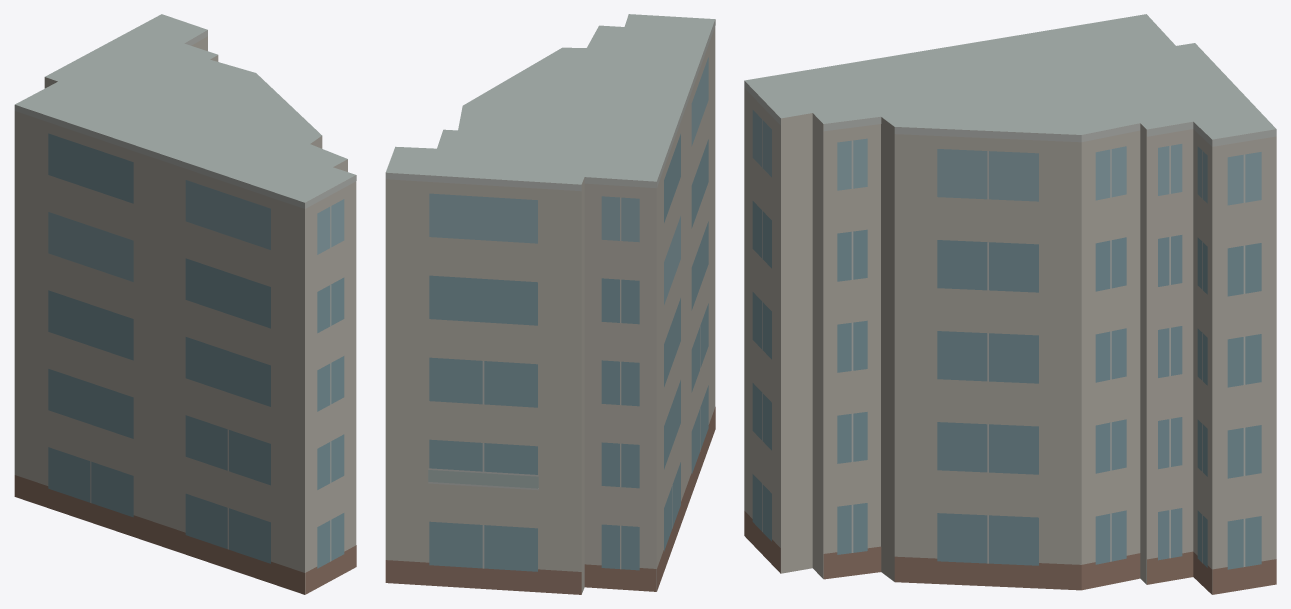
The model's file is survey-upis-32775105.glb.
3 renders of one model, left to right at view 1: azimuth 30°, elevation 25°; view 2: azimuth 150°, elevation 25°; view 3: azimuth 270°, elevation 25°, orthographic. The views are drawn at different scales.
Parts seen in each view (by area): view 1: survey-upis-32775105.tmp; view 2: survey-upis-32775105.tmp; view 3: survey-upis-32775105.tmp.
Part boxes in pixels (x1,y1,x2,y2): survey-upis-32775105.tmp: (14,14,356,594); survey-upis-32775105.tmp: (385,14,715,594); survey-upis-32775105.tmp: (744,14,1276,594).
Bounding box in the file's own units: 9.03 × 15.25 × 16.17.
